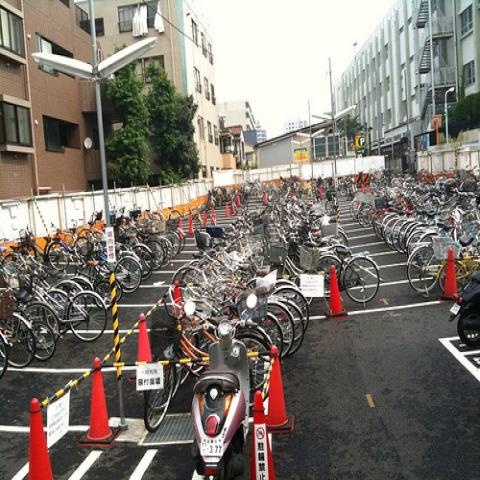motorcycle: (189, 313, 252, 472), (448, 269, 479, 348)
